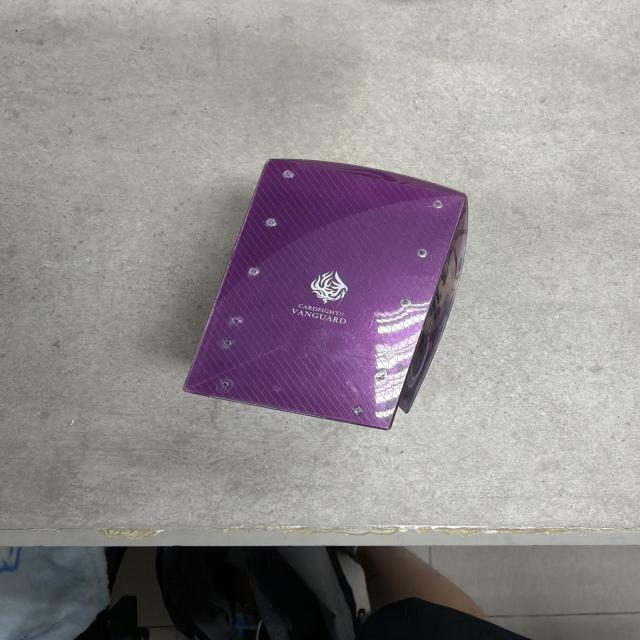box: (178, 153, 475, 434)
